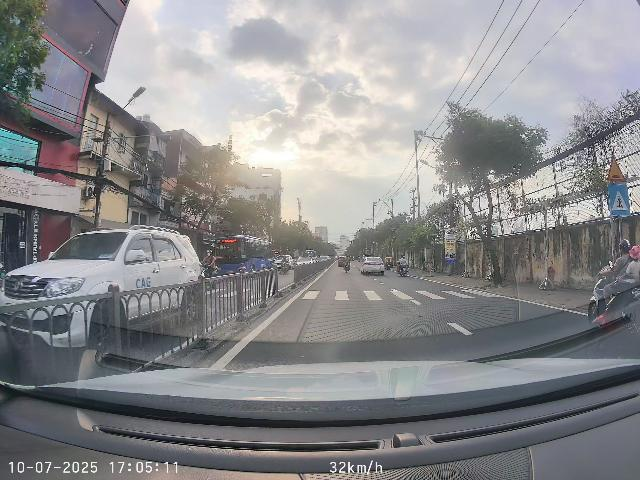221-duong-go-ghe: (608, 156, 626, 182)
423a-duong-nguoi-di-bo-sang-ngang-1: (608, 184, 630, 216)
